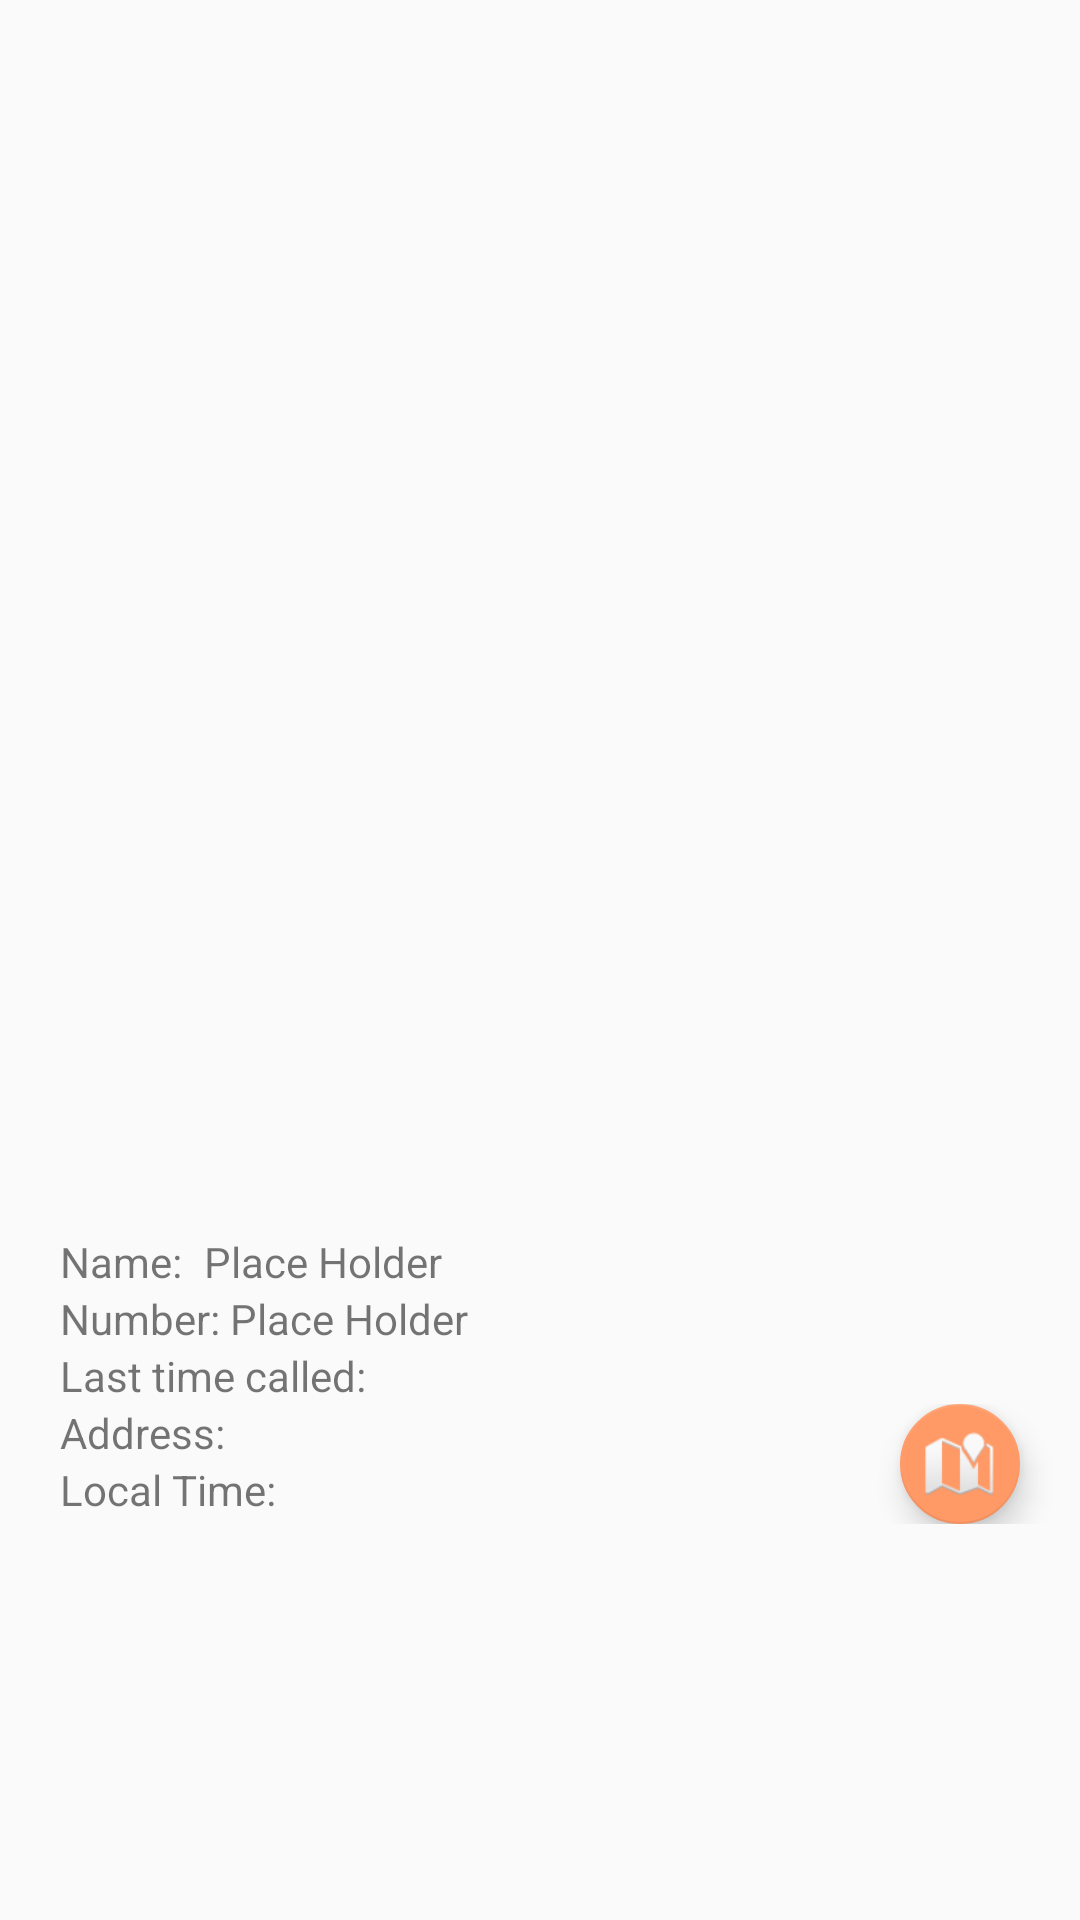

Icons on this 1080 × 1920 Android screen, each with its box as (x1, y1, x2, y2):
map: (900, 1404, 1020, 1524)
